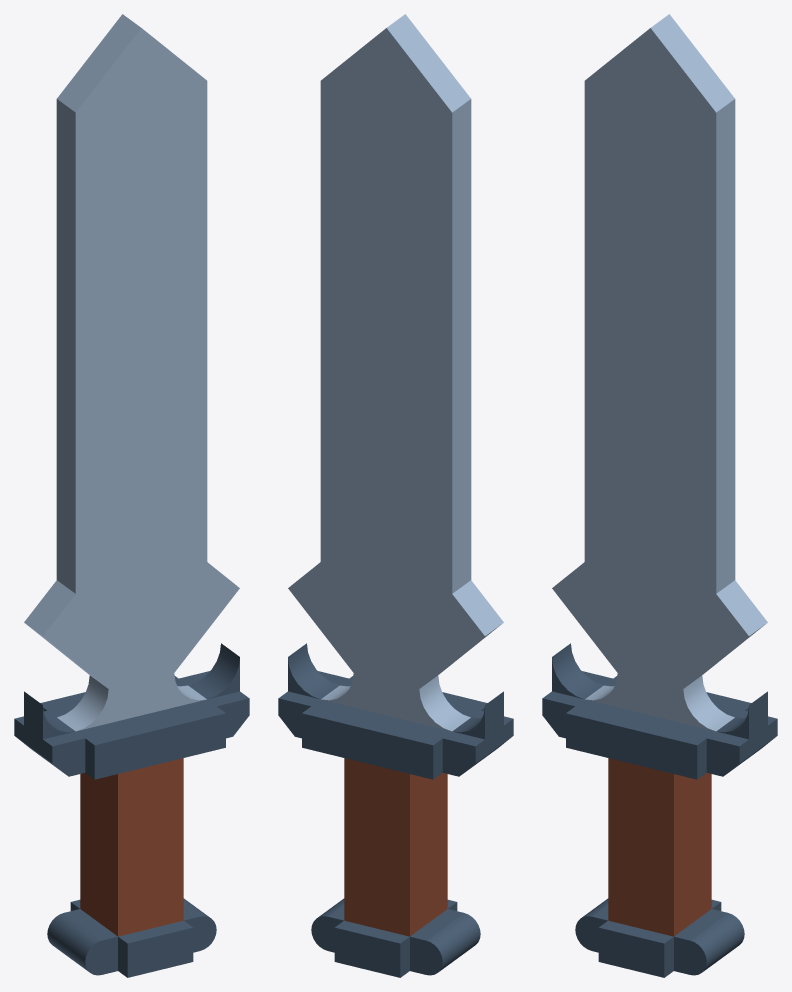
The model's file is simpleSwordUpgrade.obj.
The picture shows the model from 3 angles, left to right: view 1: azimuth 30°, elevation 25°; view 2: azimuth 150°, elevation 25°; view 3: azimuth 330°, elevation 25°; orthographic projection.
Bounding box in the file's own units: 6 × 27 × 3.
